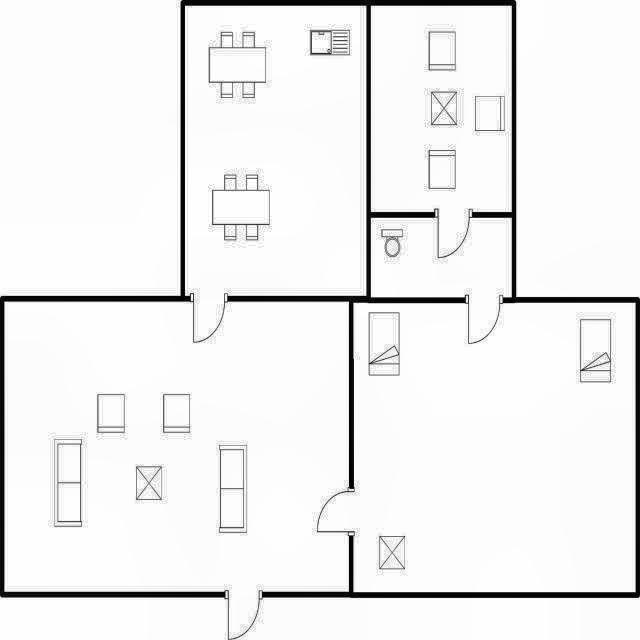room: (4, 301, 349, 592), (353, 303, 636, 592), (185, 6, 366, 296), (371, 5, 512, 212), (371, 218, 512, 297)
